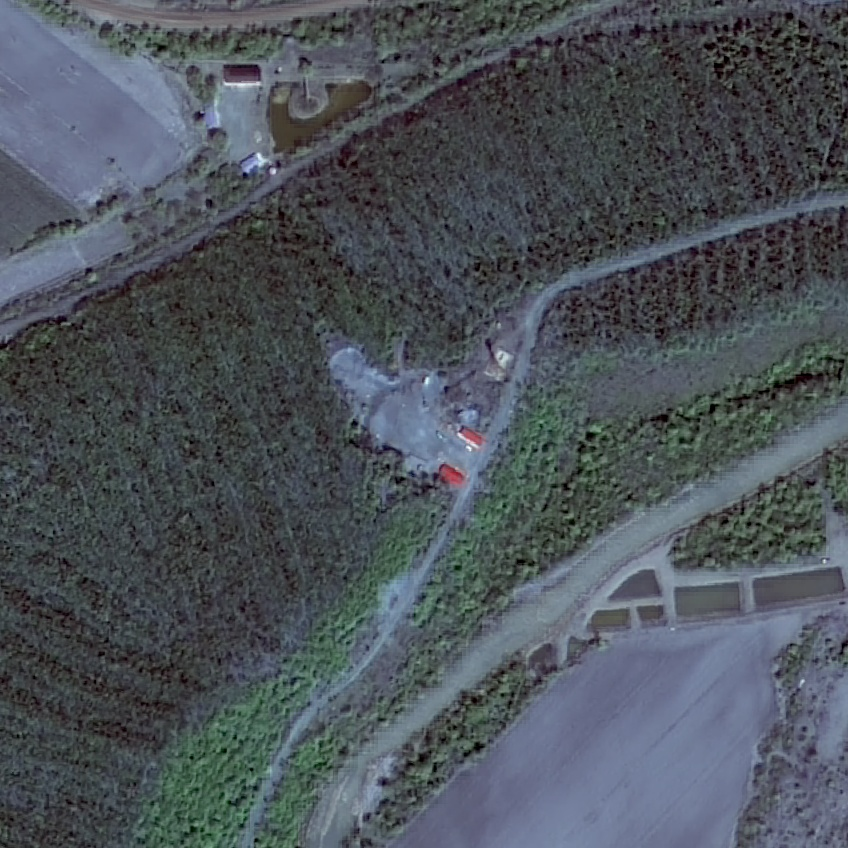slope: (331, 348, 452, 473)
